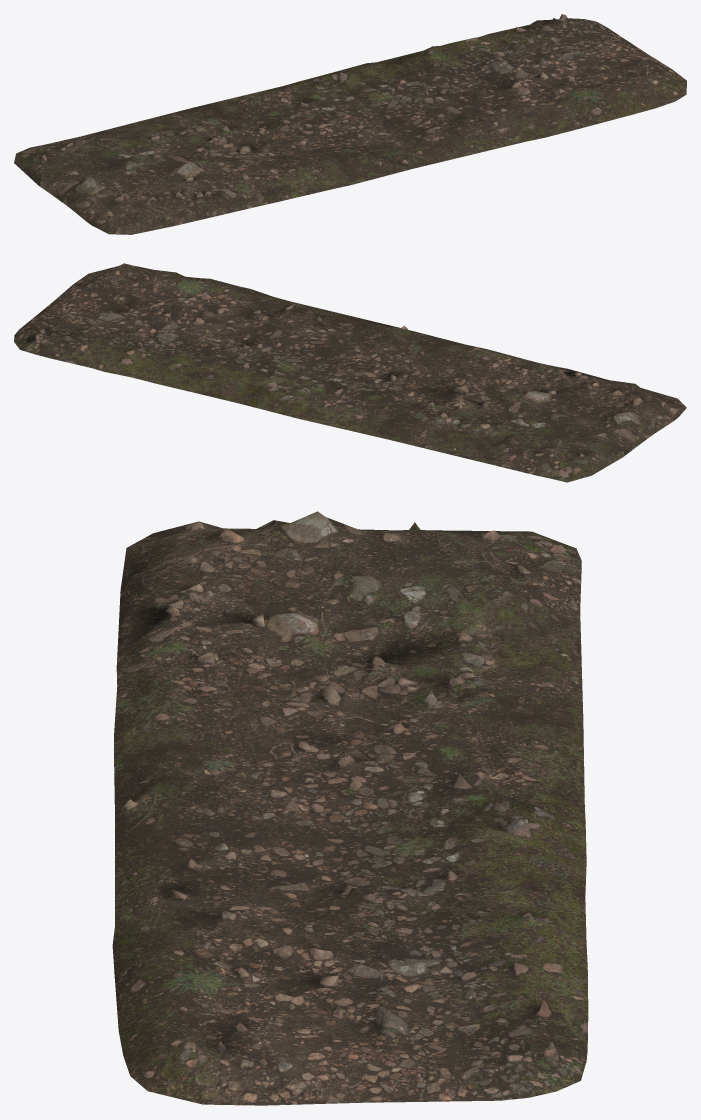
Rendered from rocky_forest_path_vbhsfesga_low.glb.
3 renders of one model, top to bottom at view 1: azimuth 30°, elevation 25°; view 2: azimuth 150°, elevation 25°; view 3: azimuth 270°, elevation 25°, orthographic. The views are drawn at different scales.
Parts seen in each view (by area): view 1: vbhsfesga_LOD0_TIER3_000; view 2: vbhsfesga_LOD0_TIER3_000; view 3: vbhsfesga_LOD0_TIER3_000.
Boxes of the visible parts, bbox=[...] form: vbhsfesga_LOD0_TIER3_000: bbox=[14, 14, 686, 234]; vbhsfesga_LOD0_TIER3_000: bbox=[14, 263, 686, 482]; vbhsfesga_LOD0_TIER3_000: bbox=[112, 511, 588, 1105].
Size of the model in its own units: 3.49 by 0.1209 by 1.22.
Materials: 1 (1 with a texture image).
